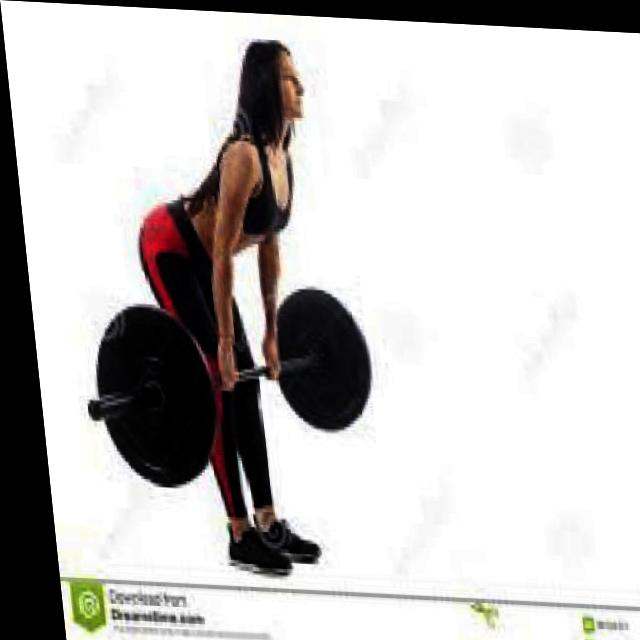barbell: (69, 300, 221, 492)
